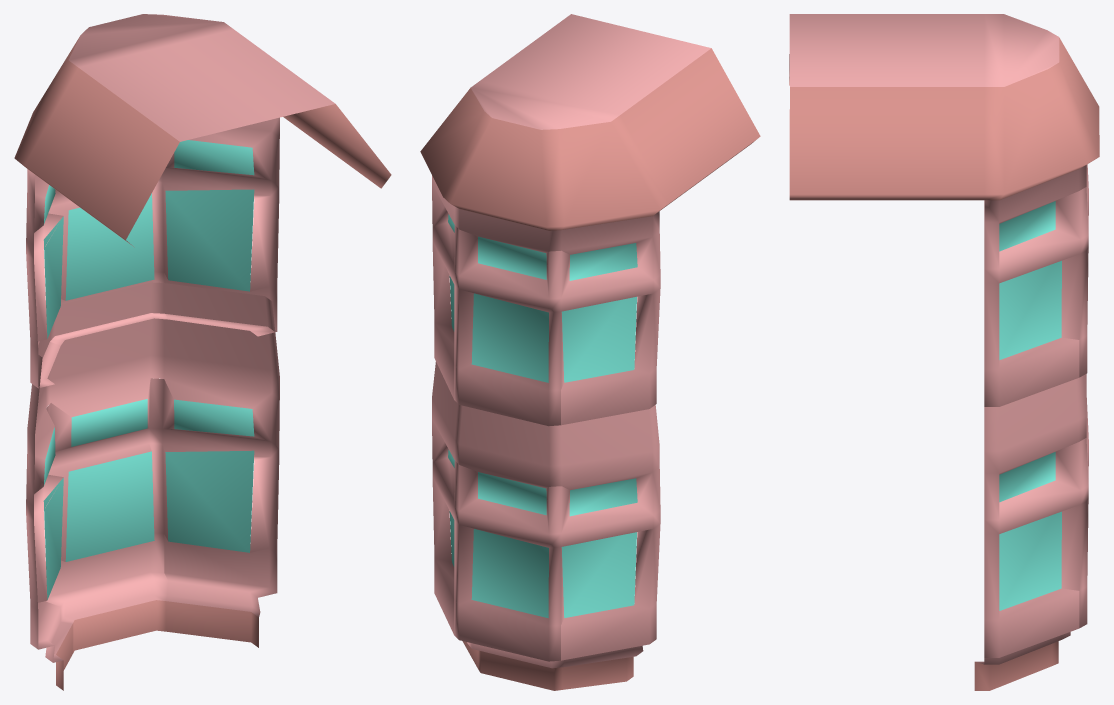
The model's file is Building_B_5.fbx.
The picture shows the model from 3 angles, left to right: view 1: azimuth 30°, elevation 25°; view 2: azimuth 150°, elevation 25°; view 3: azimuth 270°, elevation 25°; orthographic projection. The views are drawn at different scales.
Parts seen in each view (by area): view 1: Building_B_5; view 2: Building_B_5; view 3: Building_B_5.
Boxes of the visible parts, x1=… form: Building_B_5: x1=14, y1=14, x2=391, y2=690; Building_B_5: x1=420, y1=14, x2=760, y2=690; Building_B_5: x1=789, y1=14, x2=1099, y2=690.
Size of the model in its own units: 232 by 517 by 244.
